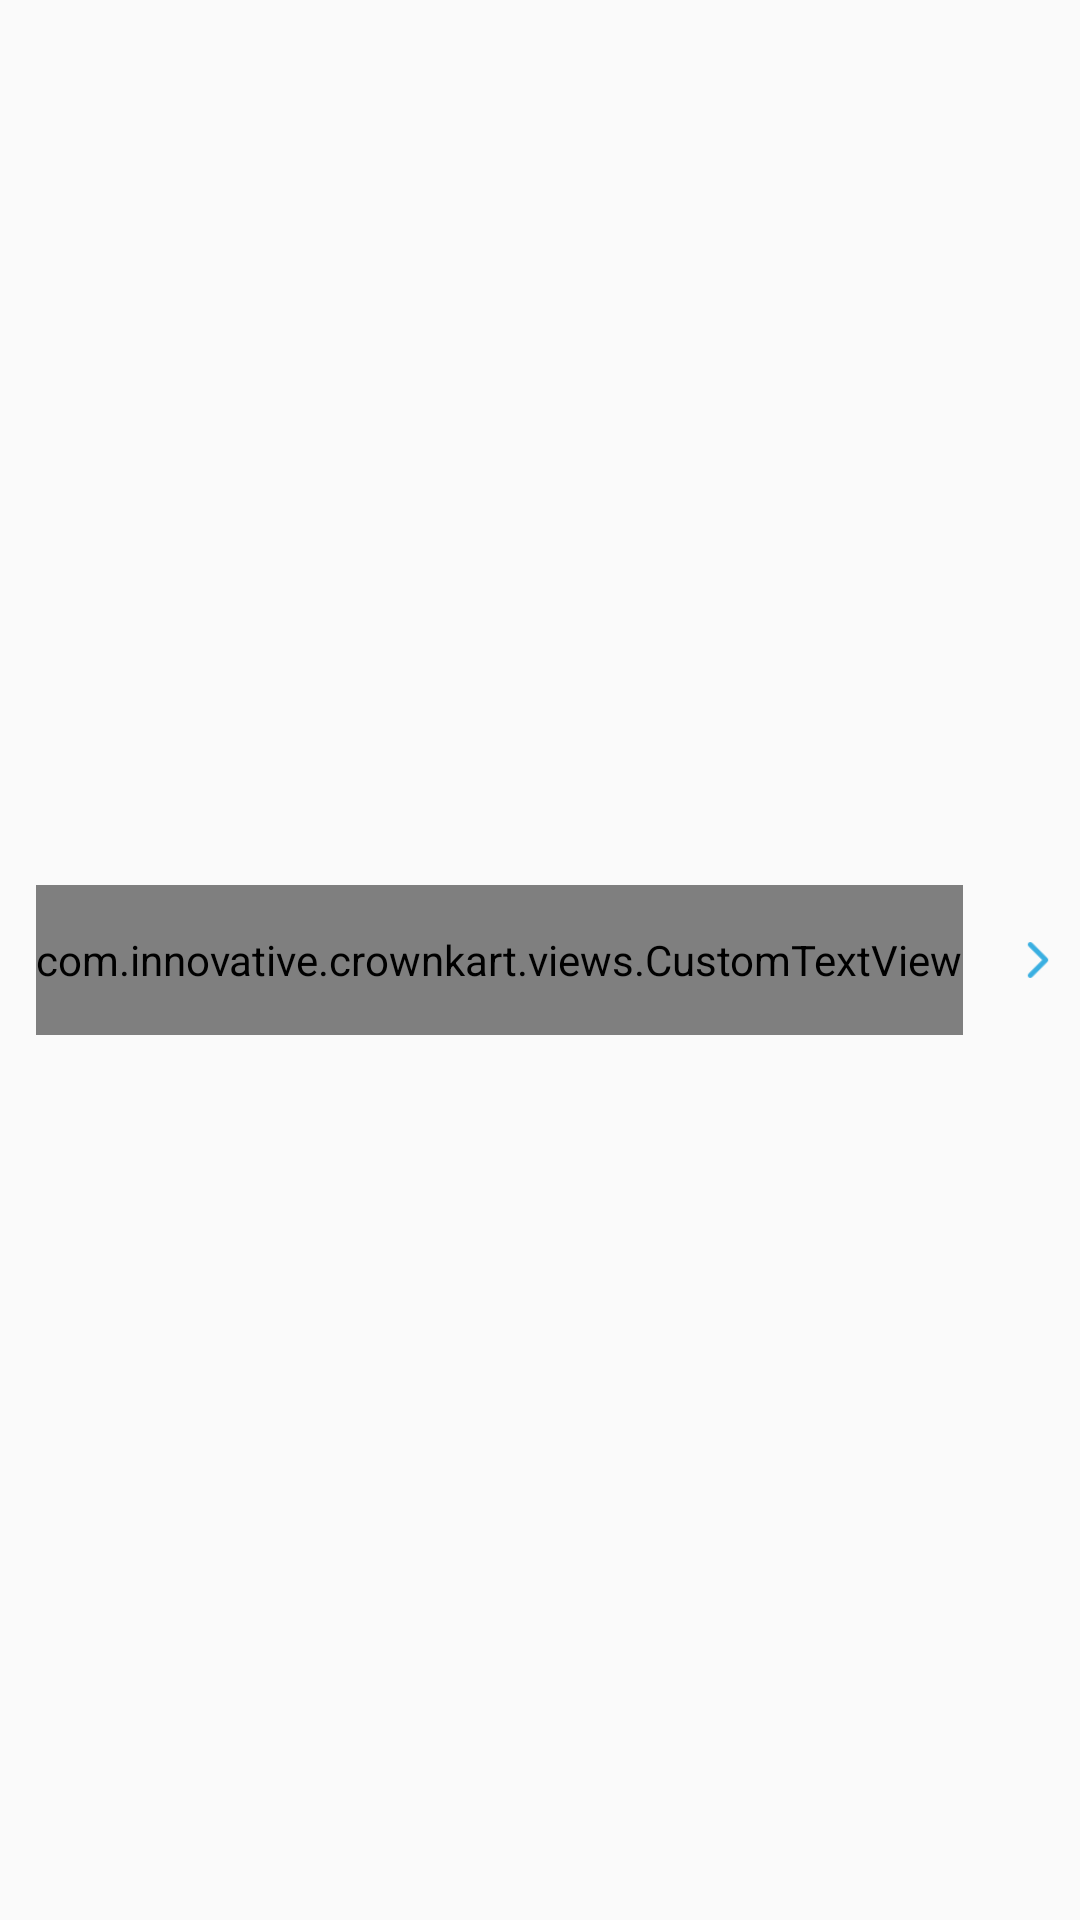

Where to tap for icons on this 1080x1920 app screen, as [x,y]:
right arrow: [1038,960]
